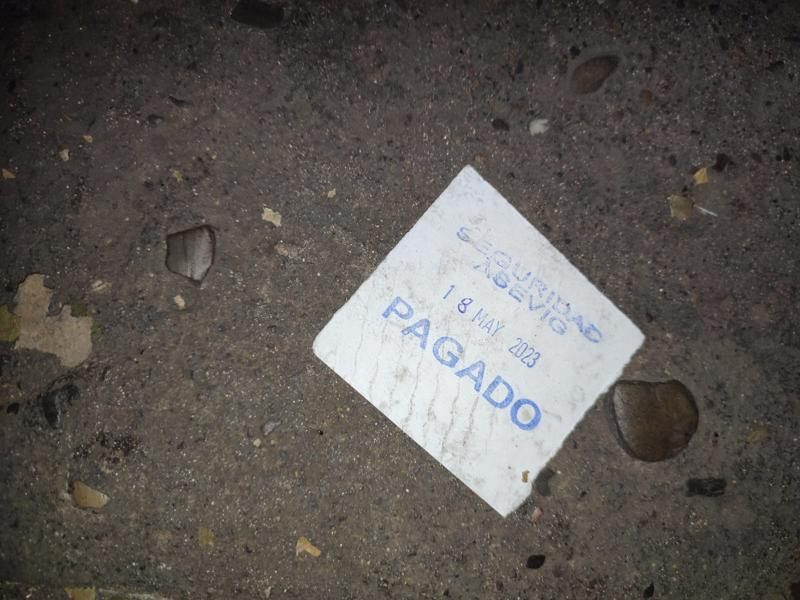papel: (310, 165, 646, 519)
